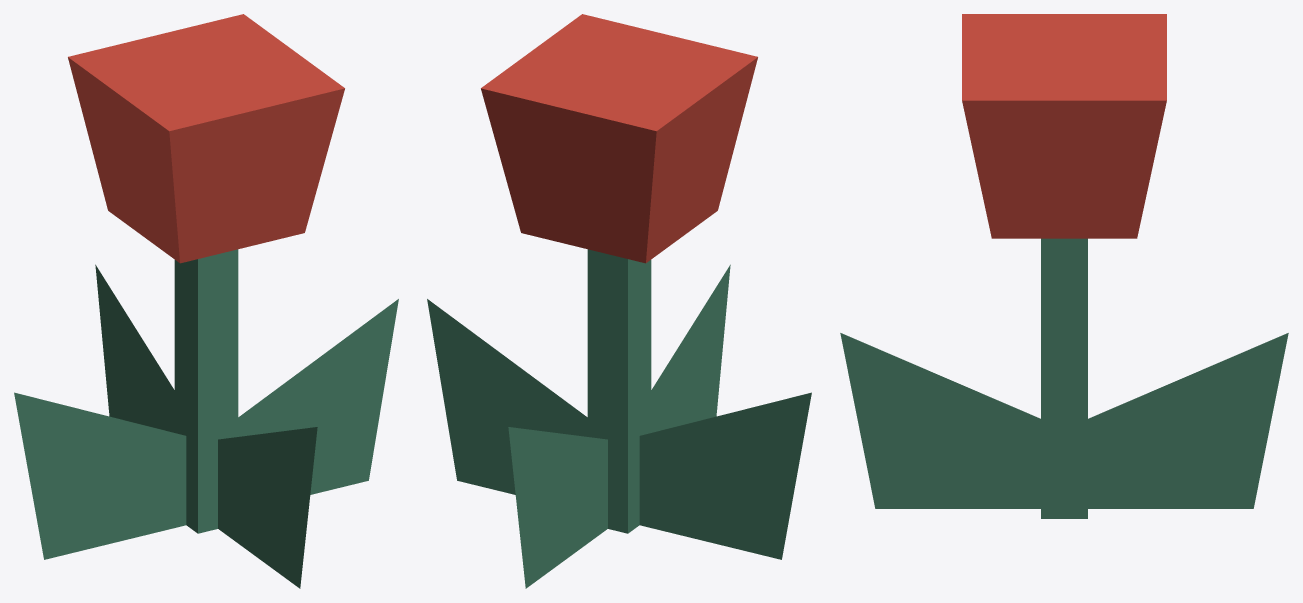
File: Flower_Tall_Red_01.obj
3 renders of one model, left to right at view 1: azimuth 30°, elevation 25°; view 2: azimuth 150°, elevation 25°; view 3: azimuth 270°, elevation 25°, orthographic.
Visible parts, largest first — view 1: Mesh1_Flower_Tall_Red_Model; view 2: Mesh1_Flower_Tall_Red_Model; view 3: Mesh1_Flower_Tall_Red_Model.
Part boxes in pixels (<box>): Mesh1_Flower_Tall_Red_Model: <box>14,14,398,588</box>; Mesh1_Flower_Tall_Red_Model: <box>427,14,811,588</box>; Mesh1_Flower_Tall_Red_Model: <box>840,14,1288,518</box>.
Size of the model in its own units: 0.4859 by 0.54 by 0.4859.
